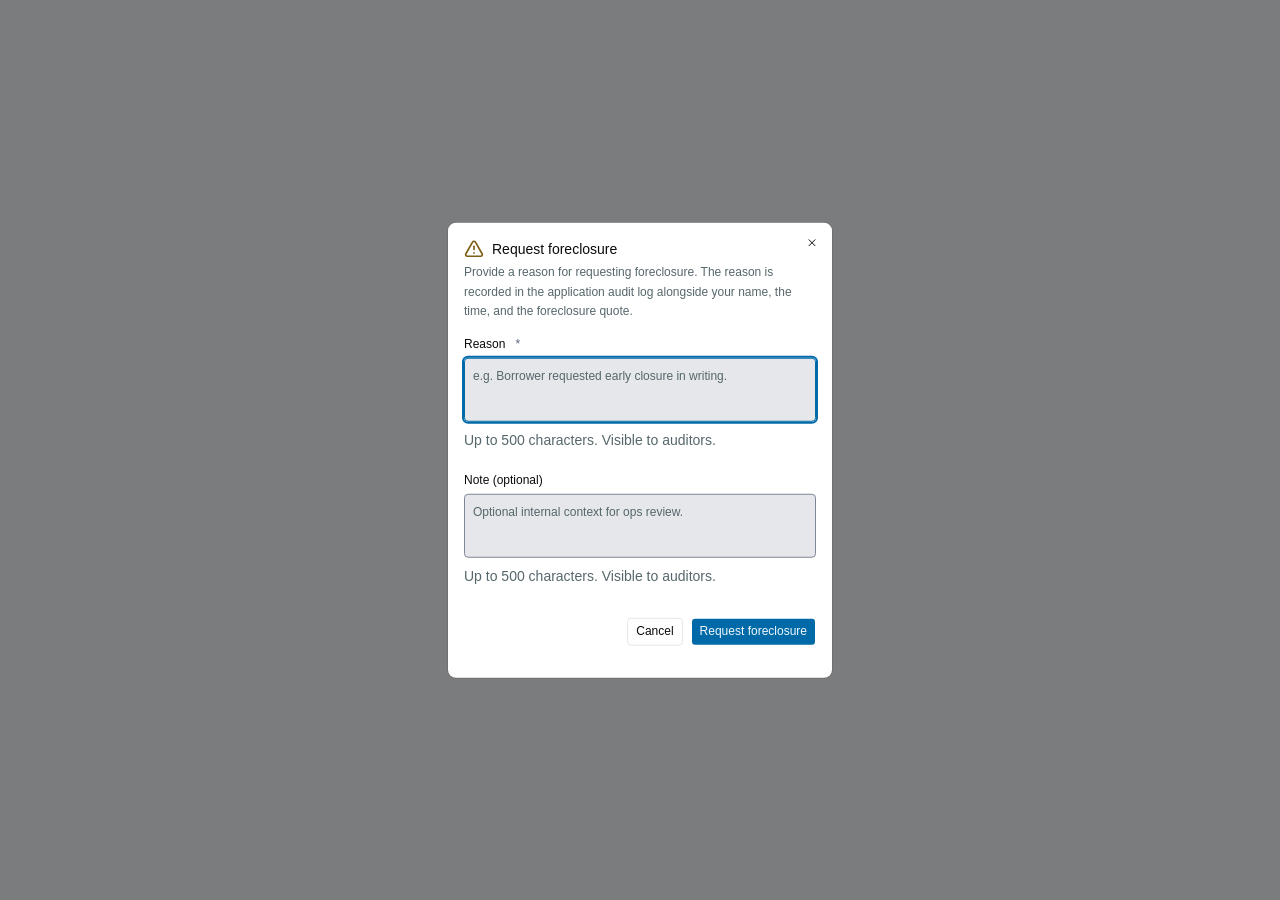
it: <ForeclosureRequestDialog /> › blocks submit when reason is empty
What coordinates should you click on to do the following:
click the button "Request foreclosure"
I would click on:
 (753, 631)
Its box is [691,617,816,645].
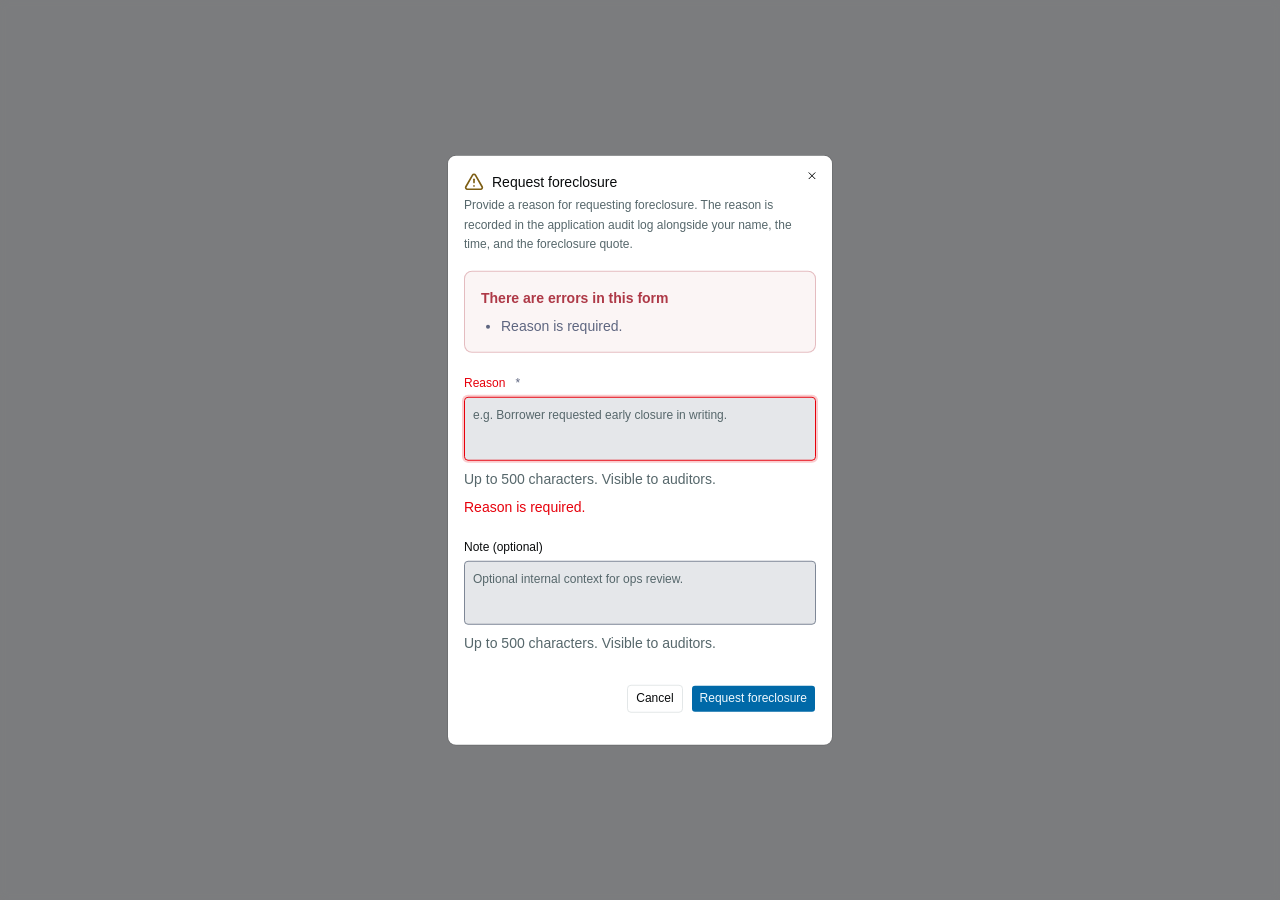
Now the list item "Reason is required." is shown, box [501,317,622,333]
